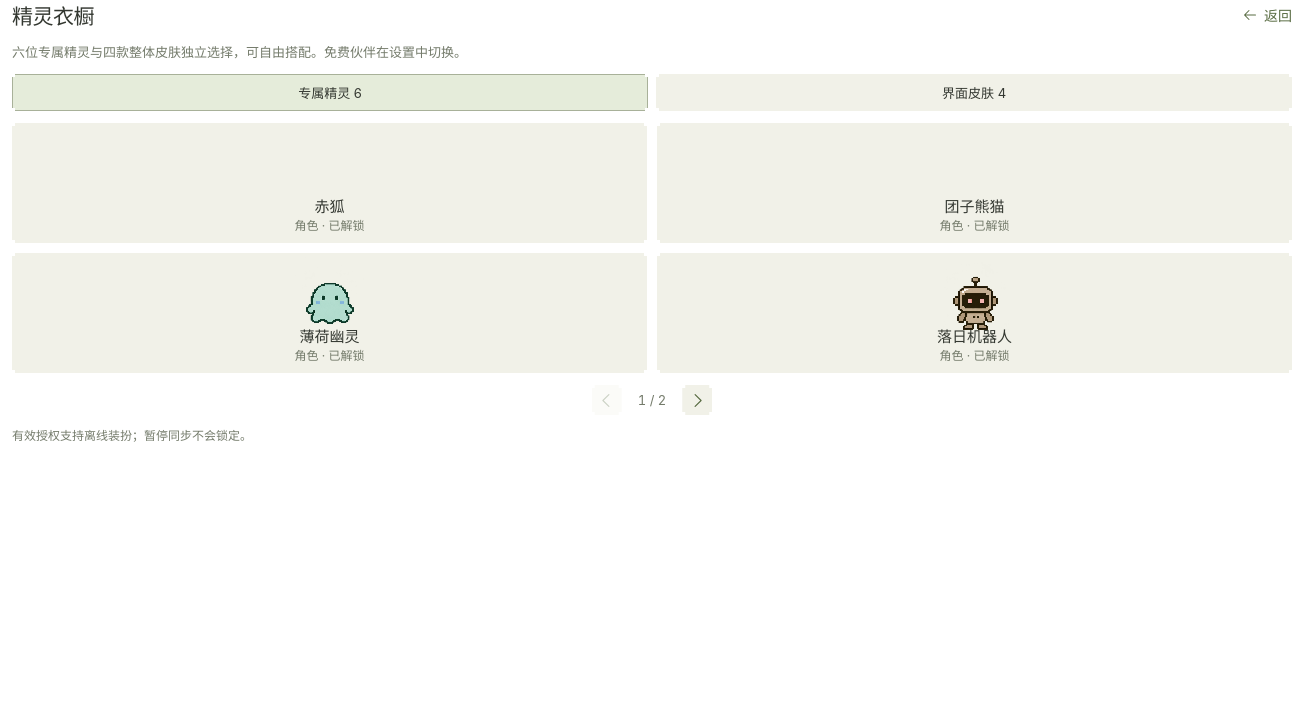
Test case: keeps the wardrobe open and selection unchanged when saving a licensed look fails
Click the button with aria-label "选择装扮 赤狐" at [330, 183], box [12,123,647,243]
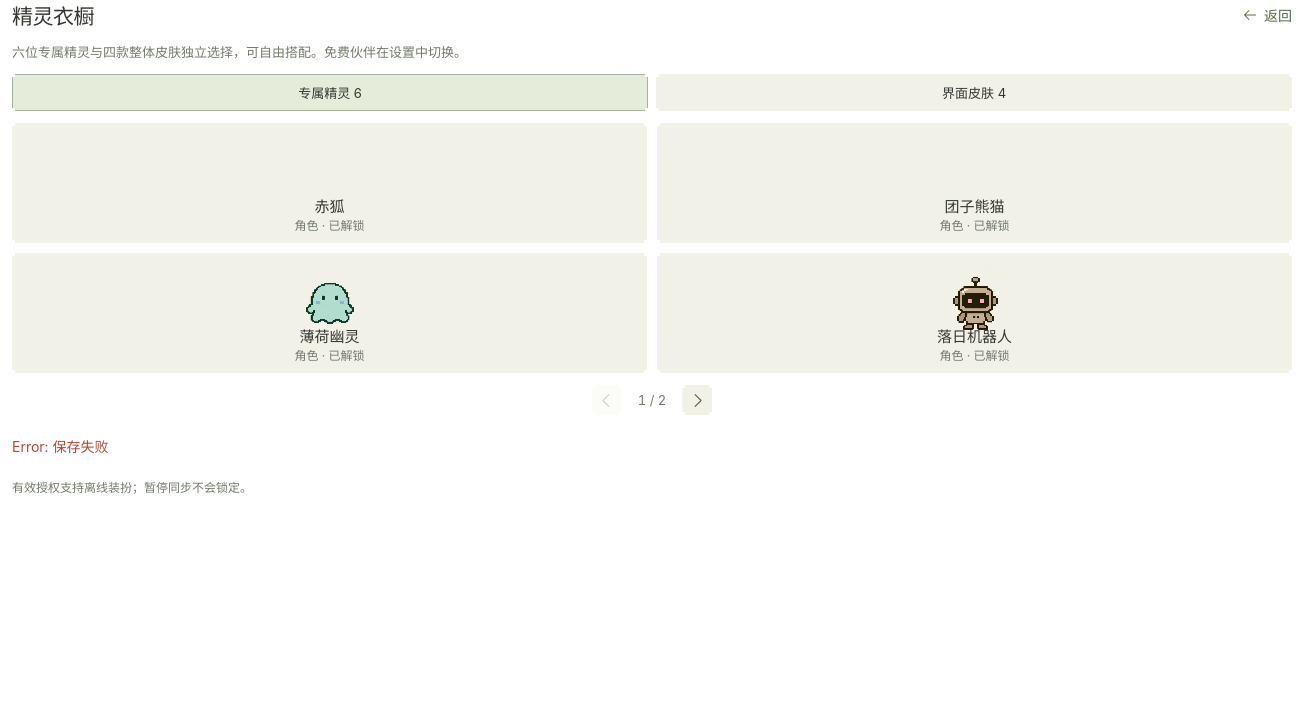
Expected: the message shows "保存失败", [12,438,109,455]
